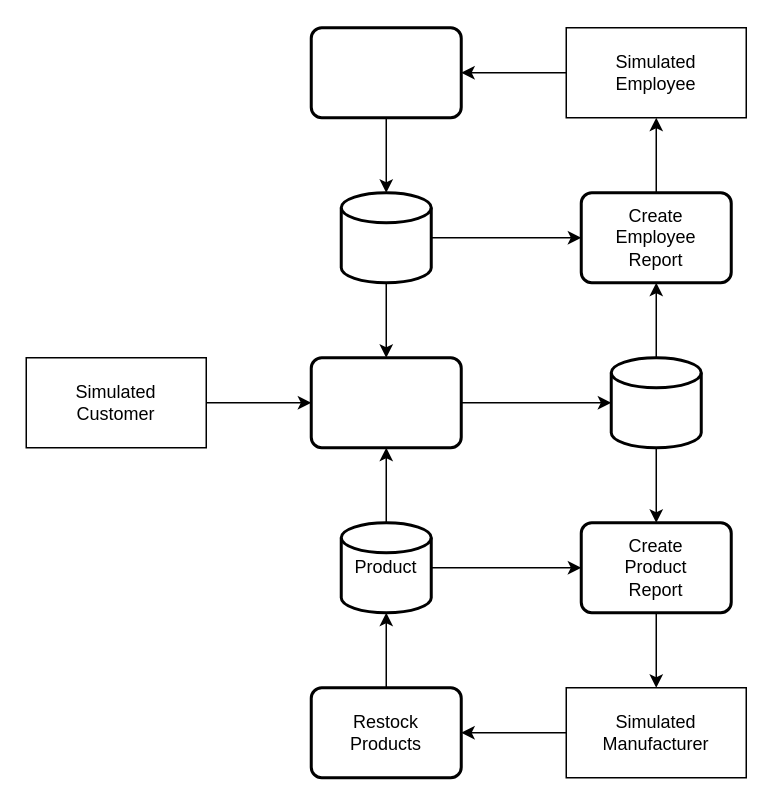
Some shapes in this 773 by 804 pixel diagram are drawn without their labels. Each missing label, with the box of its shape:
Change Employment Status: (309, 26, 462, 118)
Employee: (339, 190, 432, 284)
Payment: (609, 356, 702, 448)
Submit Payment: (309, 356, 462, 448)
